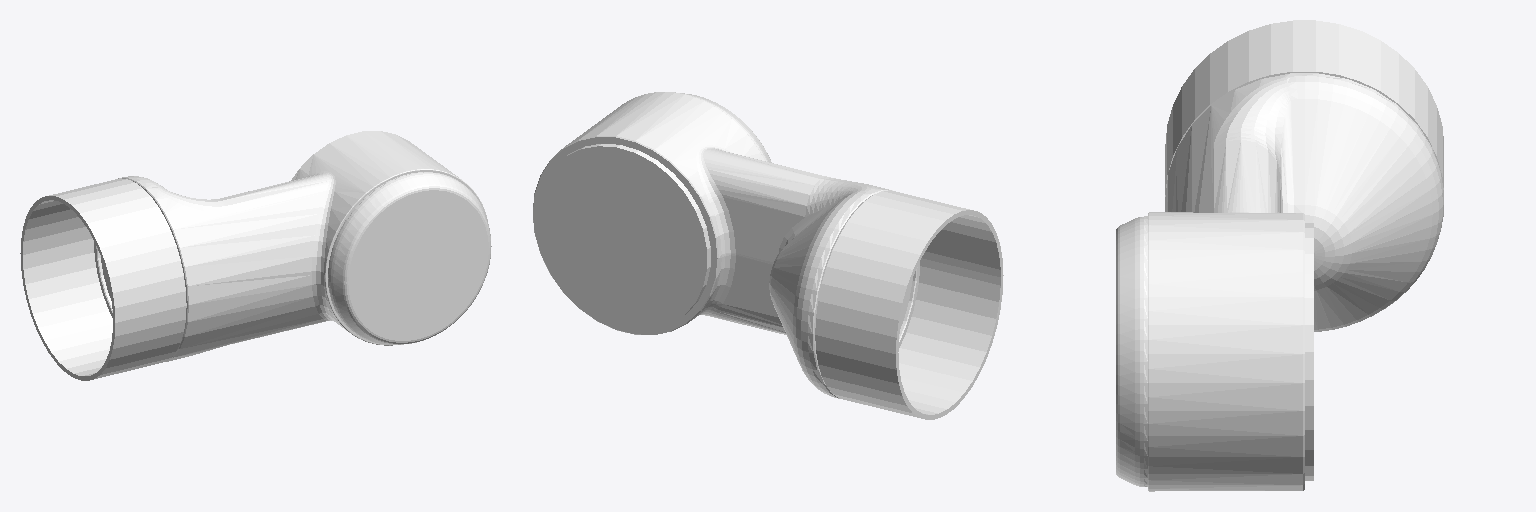
robot.urdf — upperarm_roll_link:
<robot name="upperarm_roll_link">
  <link name="upperarm_roll_link">
    <inertial>
      <origin rpy="0 0 0" xyz="0.1165 0.0014 0.0000" />
      <mass value="2.3311" />
      <inertia ixx="0.0019" ixy="-0.0001" ixz="0.0" iyy="0.0045" iyz="0.0" izz="0.0047" />
    </inertial>
    <visual>
      <origin rpy="0 0 0" xyz="0 0 0" />
      <geometry>
        <mesh filename="package://fetch_description/meshes/upperarm_roll_link.obj" />
      </geometry>
      <material name="">
        <color rgba="1 1 1 1" />
      </material>
    </visual>
    <collision>
      <origin rpy="0 0 0" xyz="0 0 0" />
      <geometry>
        <mesh filename="package://fetch_description/meshes/upperarm_roll_link_collision.STL" />
      </geometry>
    </collision>
  </link>
</robot>

--- What the picture shows (computed from the rendered views, not written in the file) ---
3 views of the same robot in one strip: view 1: azimuth 30°, elevation 25°; view 2: azimuth 150°, elevation 25°; view 3: azimuth 270°, elevation 25° (orthographic).
Model upperarm_roll_link with 1 links and 0 joints (none), rooted at upperarm_roll_link, posed every joint at zero.
Visible links, largest first — view 1: upperarm_roll_link; view 2: upperarm_roll_link; view 3: upperarm_roll_link.
Link boxes in pixels (<box>): upperarm_roll_link: <box>20,131,491,380</box>; upperarm_roll_link: <box>533,92,1003,419</box>; upperarm_roll_link: <box>1116,20,1443,491</box>.
Bounding box of the posed robot: 0.233 × 0.1225 × 0.104 m (x, y, z).
Meshes: 1 distinct files referenced, 1 mesh visuals loaded (1 OBJ).